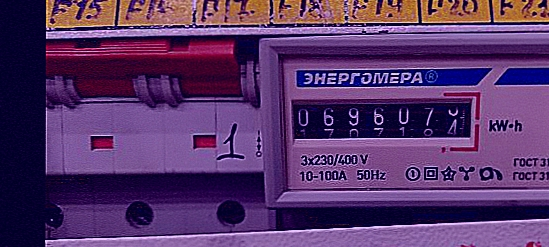0: (394, 104, 409, 126), (294, 107, 308, 128)
4: (444, 117, 457, 138)
6: (319, 106, 333, 127), (369, 106, 383, 126)
7: (419, 106, 434, 127)
9: (344, 106, 357, 127)
screen: (277, 90, 483, 149)
